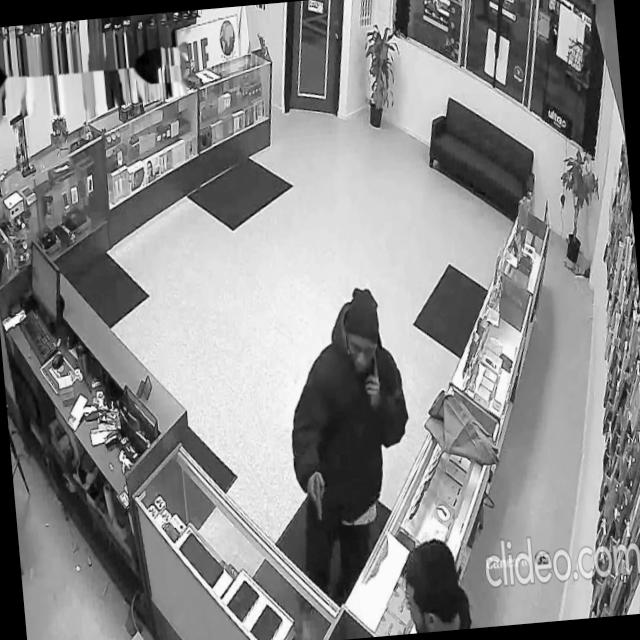gun: (310, 470, 328, 525)
person with a gun: (270, 281, 426, 611)
